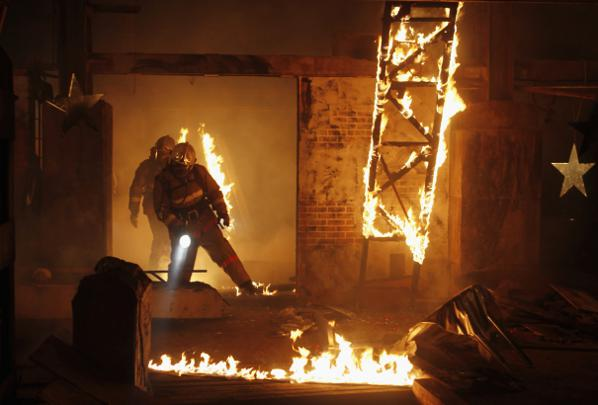fire: (377, 10, 469, 170), (289, 329, 418, 392), (355, 176, 438, 266), (148, 340, 284, 384), (196, 123, 236, 219)
